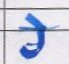o_matra: (34, 17, 47, 51)
